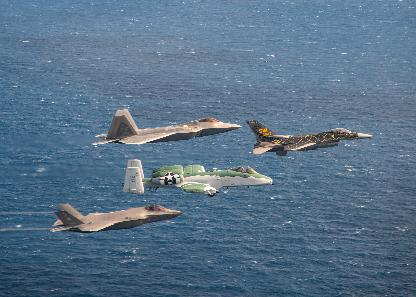A10: (121, 159, 273, 196)
F14: (246, 120, 378, 155)
F18: (91, 109, 242, 145)
F22: (49, 202, 183, 232)
